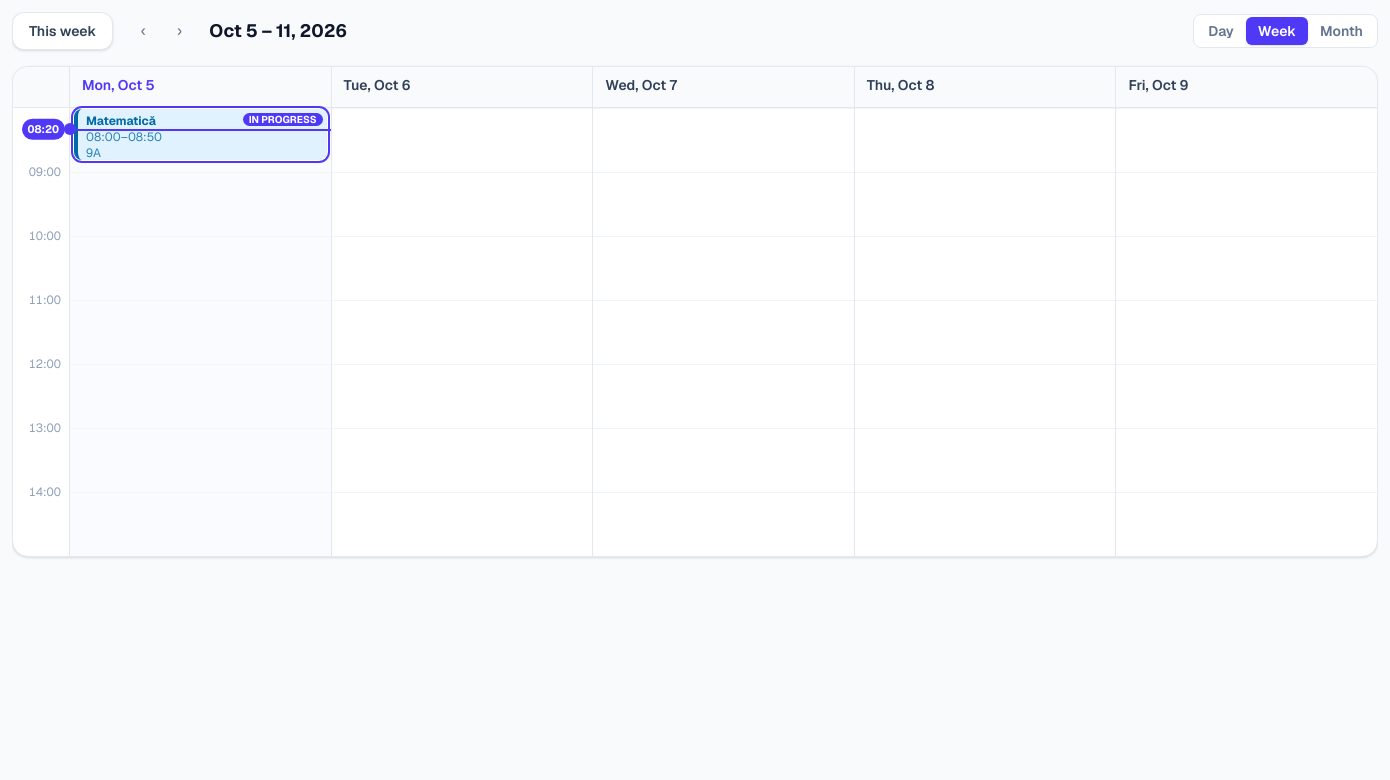
Test: MyTimetable › shows one day with the current time on the cursor
Click the button "Day": click(1221, 31) [1196,17,1246,45]
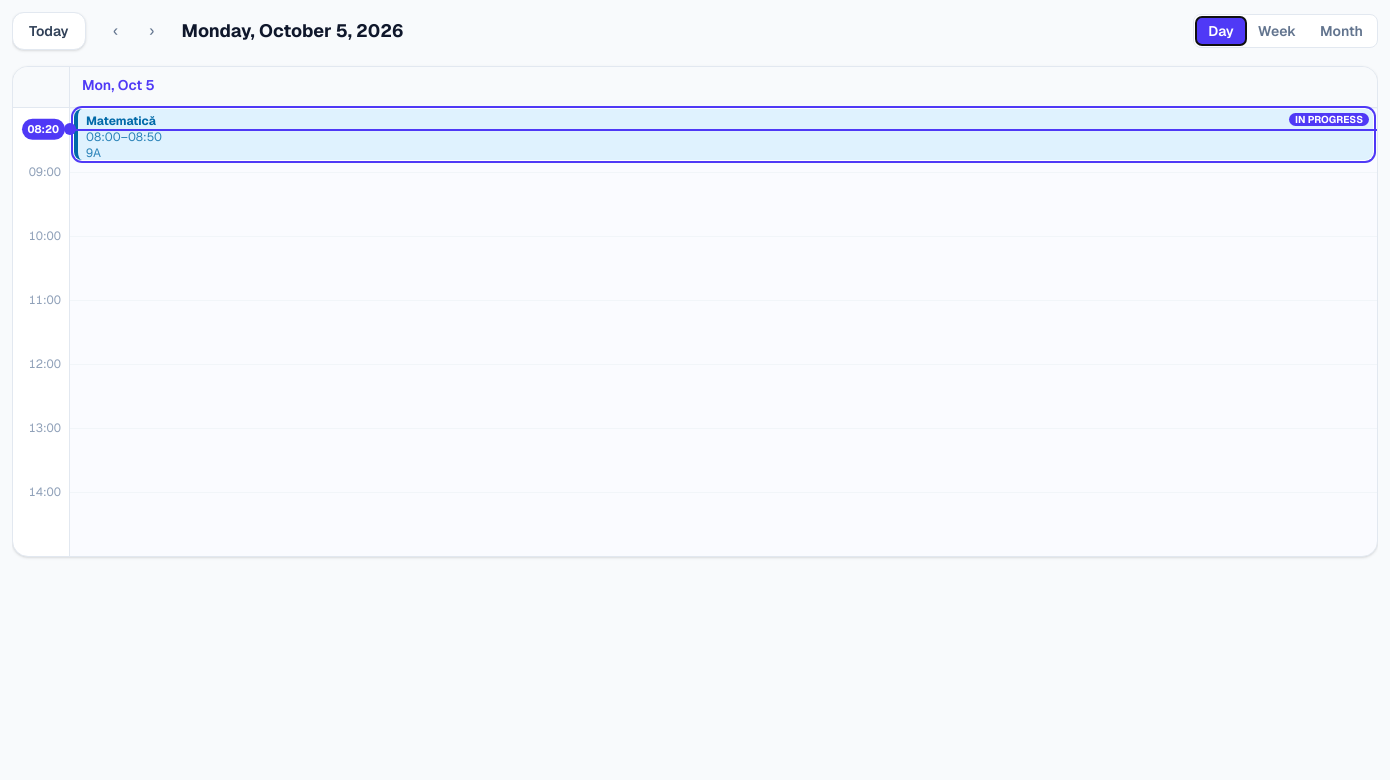
Expected: the text "08:20" is shown, [22,119,65,140]
Expected: the heading "Monday, October 5, 2026" is shown, [182,17,403,45]
Click the button named "Next": click(152, 31) [134,13,170,49]
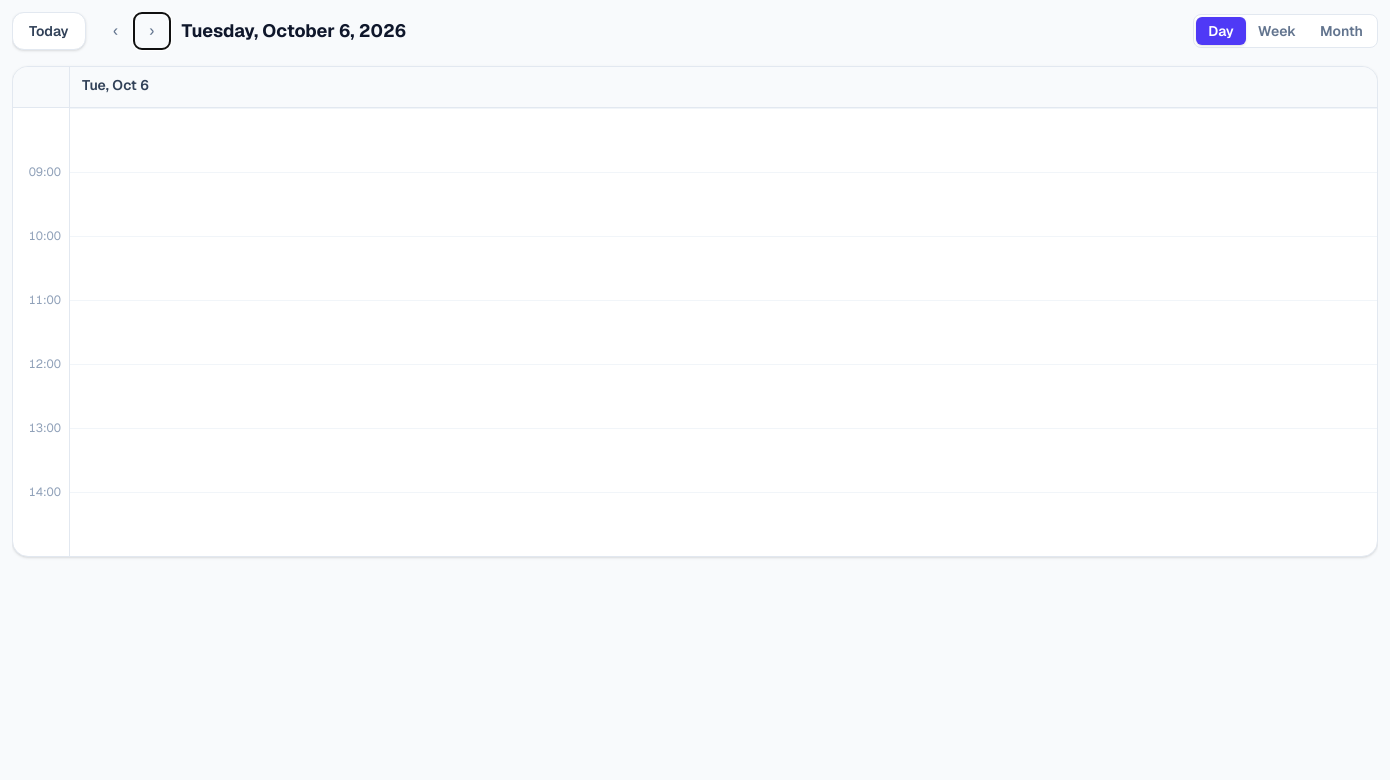
Expected: the heading "Tuesday, October 6, 2026" is shown, [182,17,406,45]
Expected: the text "08:20" is gone
